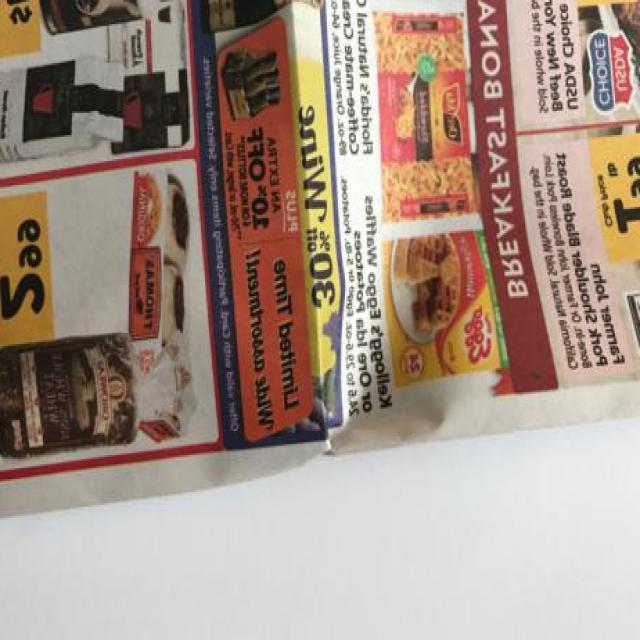kertas: (0, 0, 640, 520)
